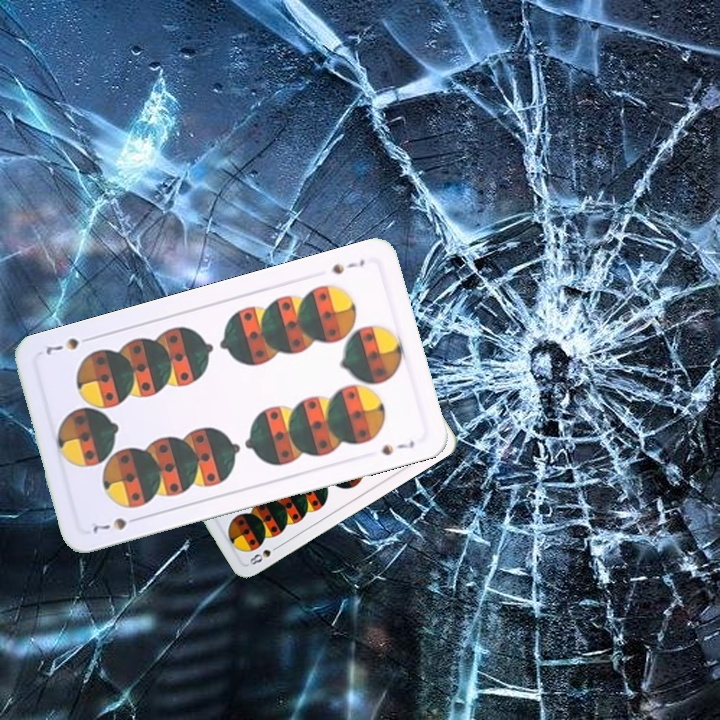S7: (85, 512, 144, 537), (327, 255, 367, 277)
S8: (245, 541, 283, 568)
